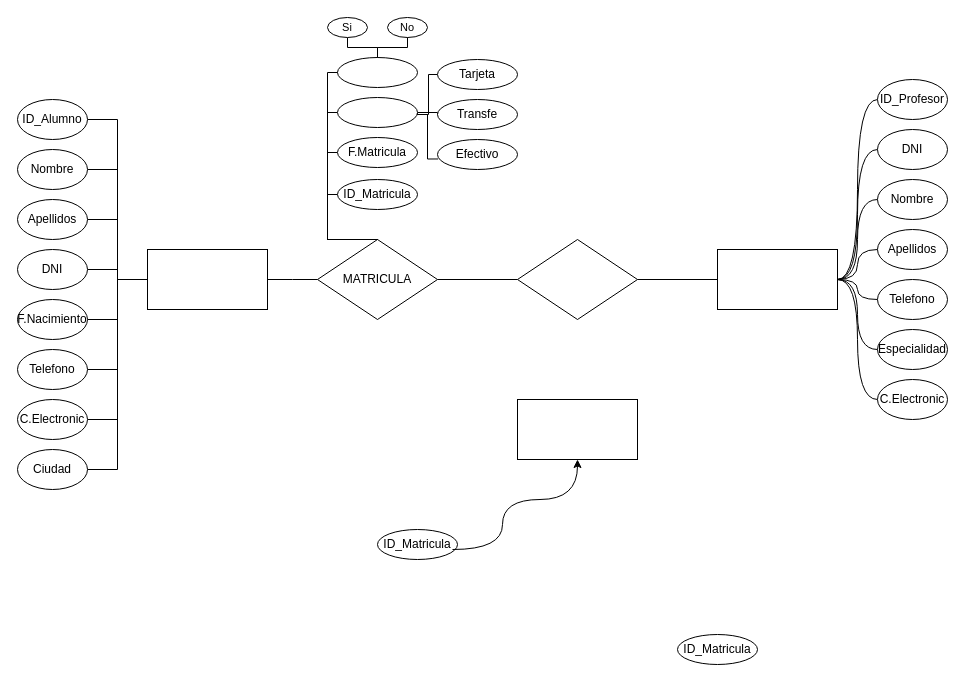
This 965x682 diagram has some shape labels left out. Each missing label, with the centre of its shape:
Alumno: point (207, 279)
Centro: point (577, 429)
Curso: point (577, 279)
Pagado: point (377, 72)
Pago: point (377, 112)
Profesor: point (777, 279)
